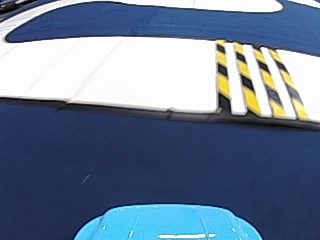bump: (208, 41, 295, 116)
